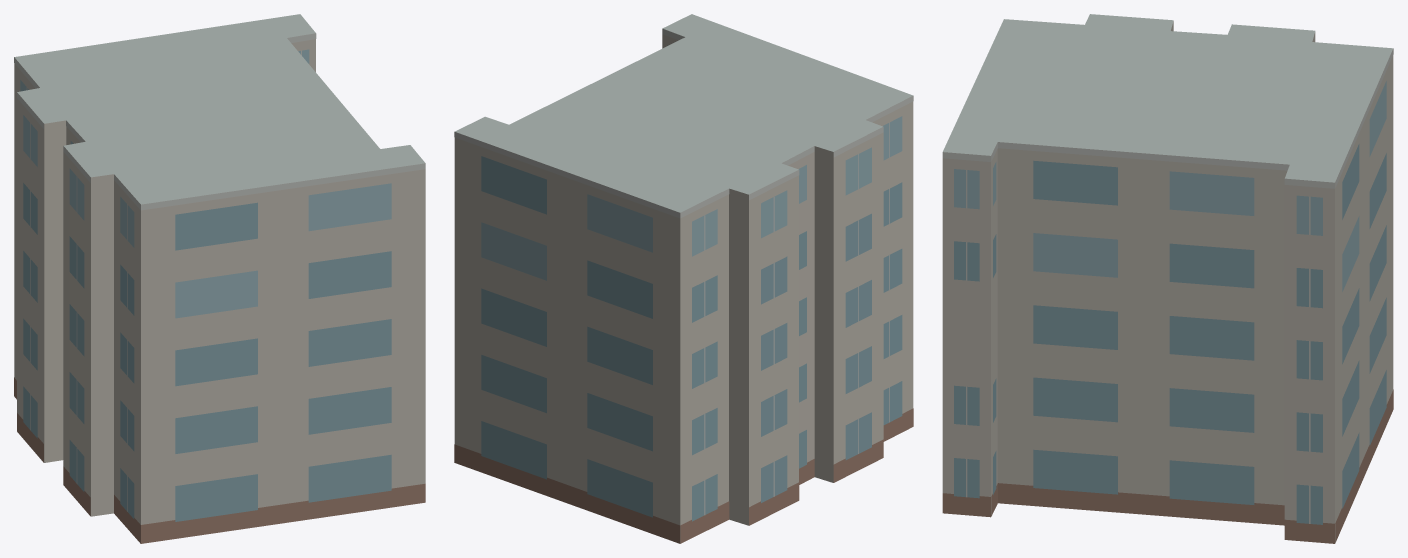
File: survey-upis-32690096.glb
The picture shows the model from 3 angles, left to right: view 1: azimuth 30°, elevation 25°; view 2: azimuth 150°, elevation 25°; view 3: azimuth 270°, elevation 25°; orthographic projection. The views are drawn at different scales.
Parts seen in each view (by area): view 1: survey-upis-32690096.tmp; view 2: survey-upis-32690096.tmp; view 3: survey-upis-32690096.tmp.
Part boxes in pixels (x1=…): survey-upis-32690096.tmp: x1=14, y1=14, x2=425, y2=543; survey-upis-32690096.tmp: x1=454, y1=14, x2=913, y2=543; survey-upis-32690096.tmp: x1=942, y1=14, x2=1393, y2=543.
Size of the model in its own units: 14.18 by 14.15 by 16.01.
